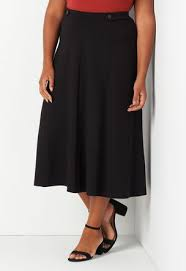S_skirt: (25, 7, 158, 203)
